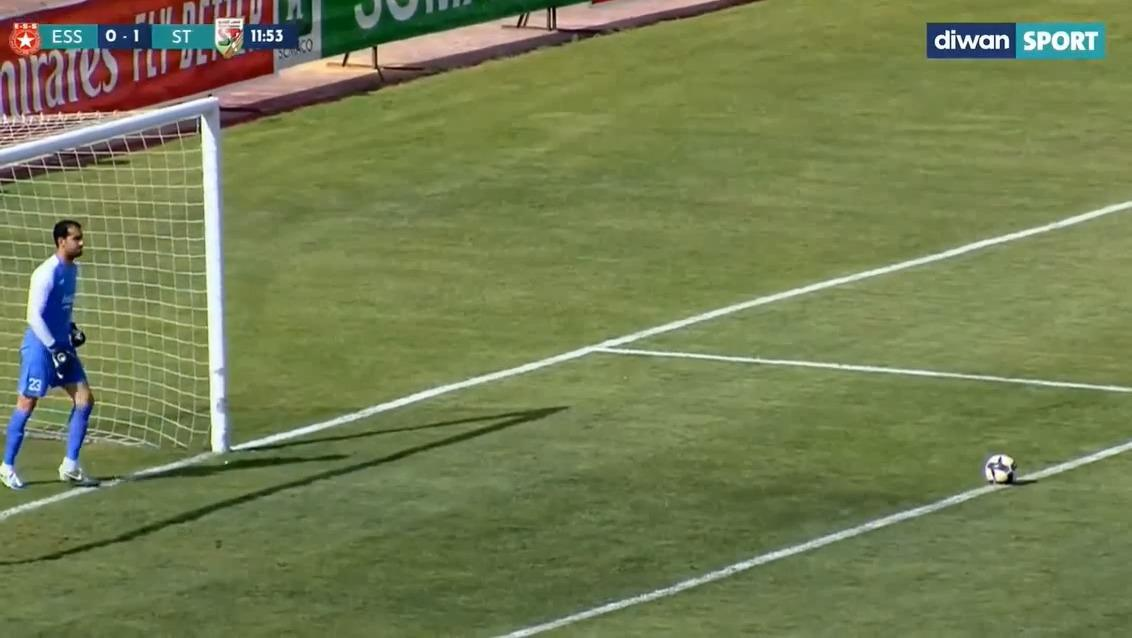ball: (982, 450, 1015, 489)
goalkeeper: (24, 220, 126, 491)
